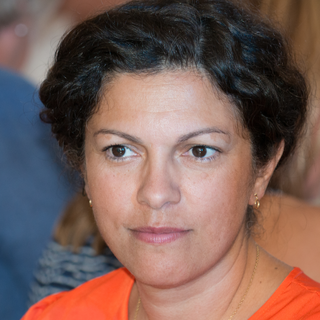eye: (178, 140, 226, 164), (98, 140, 143, 165)
